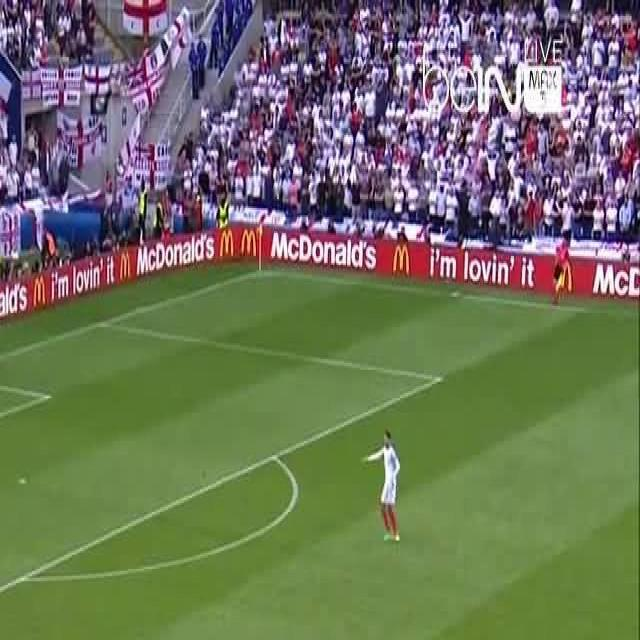player-white: (364, 432, 401, 542), (552, 234, 568, 306)
